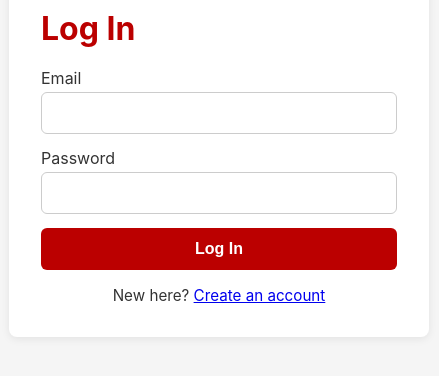
Scenario: <LoginForm /> › shows email format error when email is invalid
In the field labelled "Email": (219, 113) [41,92,397,134], type "not-an-email"
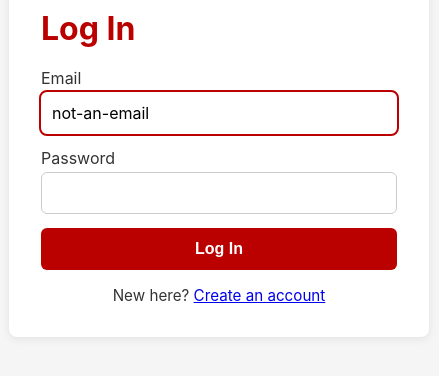
In the password field labelled "Password": (219, 193) [41,172,397,214], type "anything"
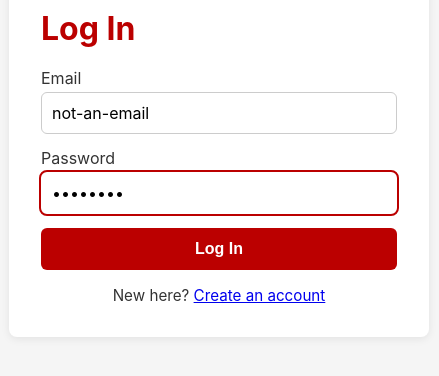
Click the button "Log In": (219, 249) [41,228,397,270]
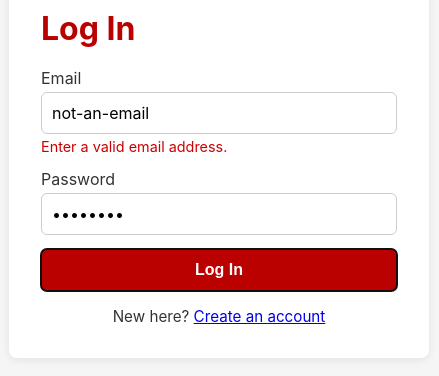
Check: the text "Enter a valid email address." is shown, box [41,138,227,155]
